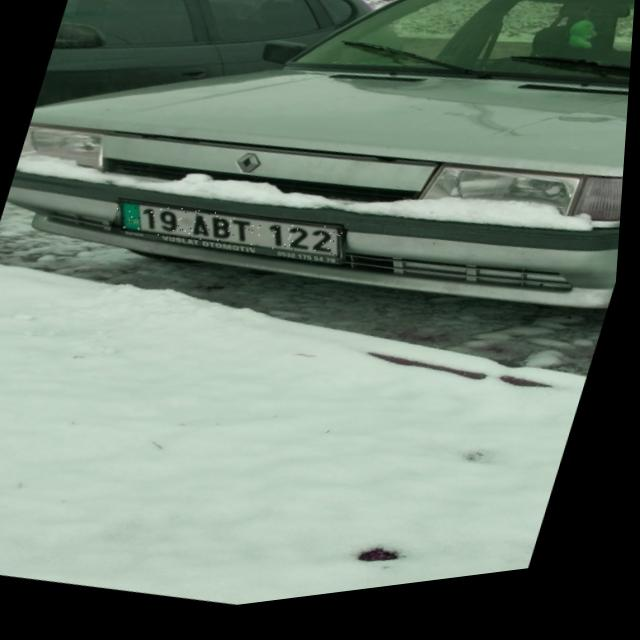license_plate: (111, 181, 355, 290)
